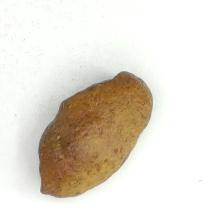NG: (38, 71, 123, 145)
